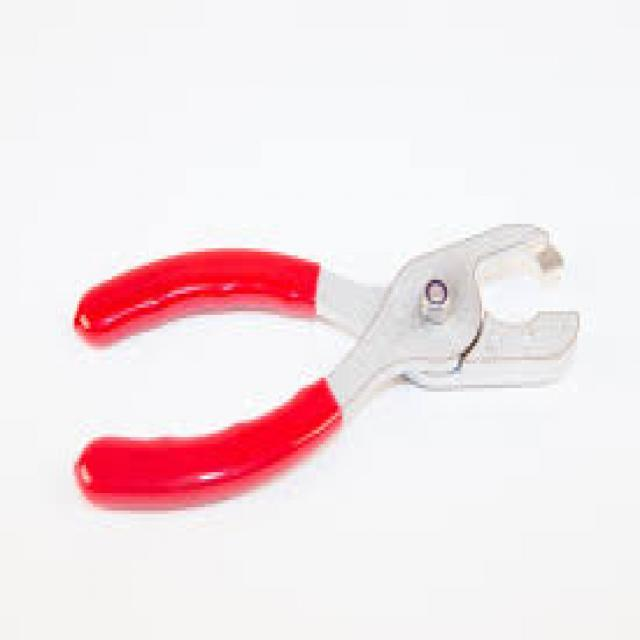pliers: (61, 208, 588, 522)
